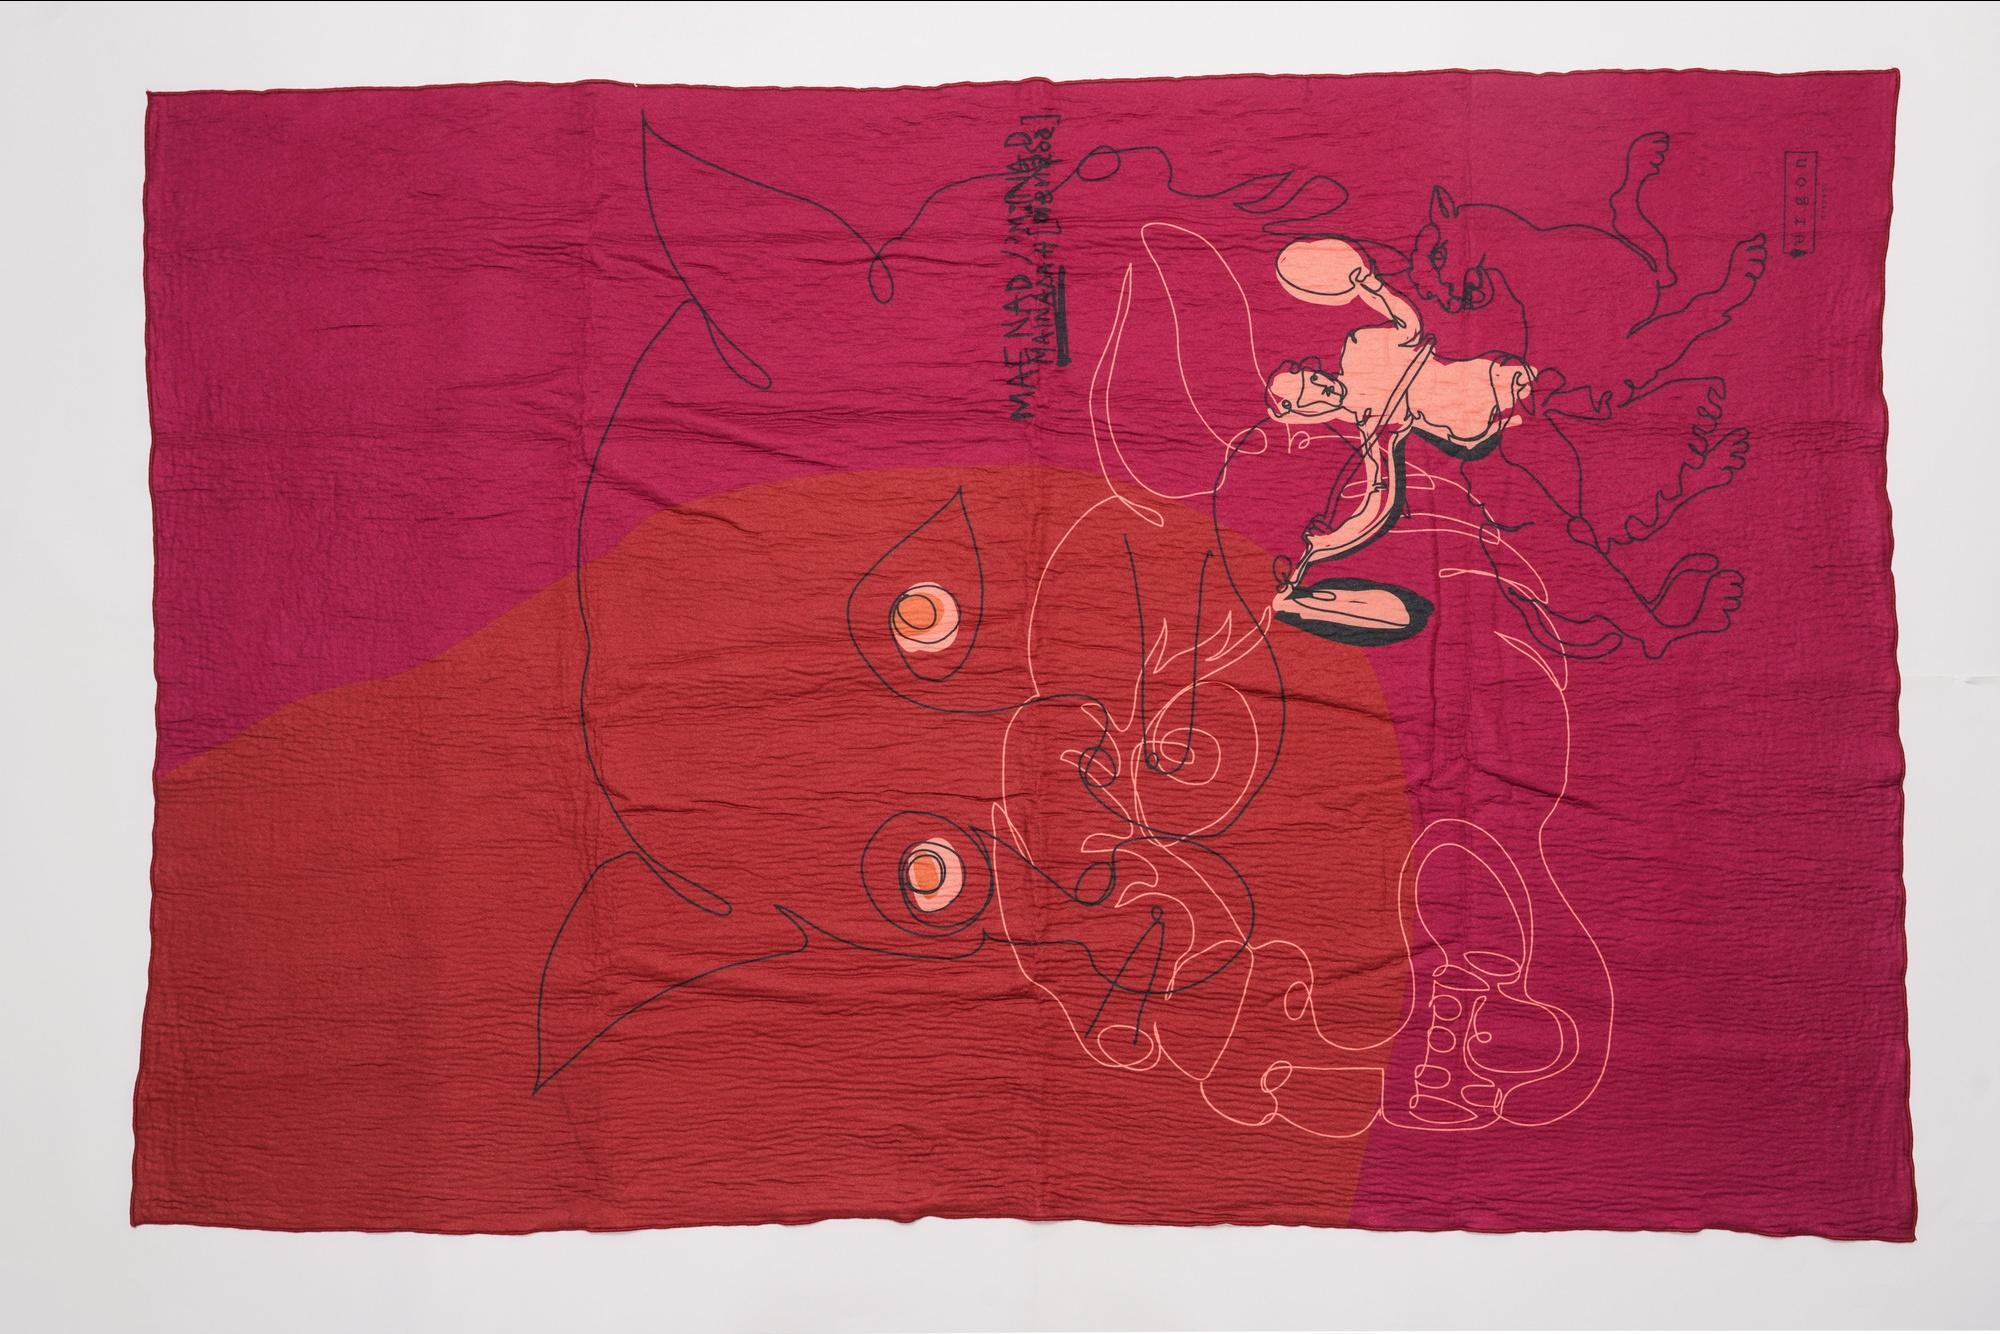towel: (94, 60, 1220, 1273)
